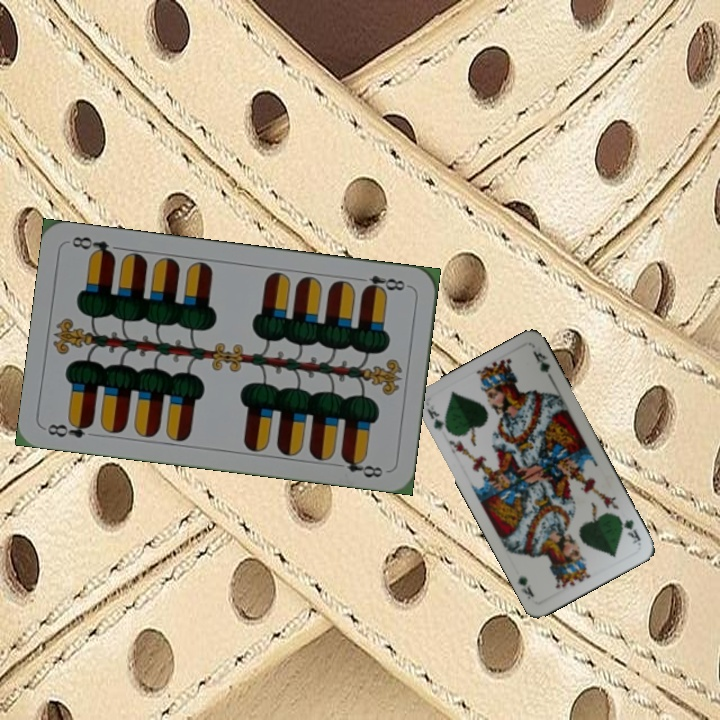E8: (353, 271, 412, 296), (43, 416, 95, 441)
GK: (423, 400, 453, 435), (620, 515, 643, 547)
